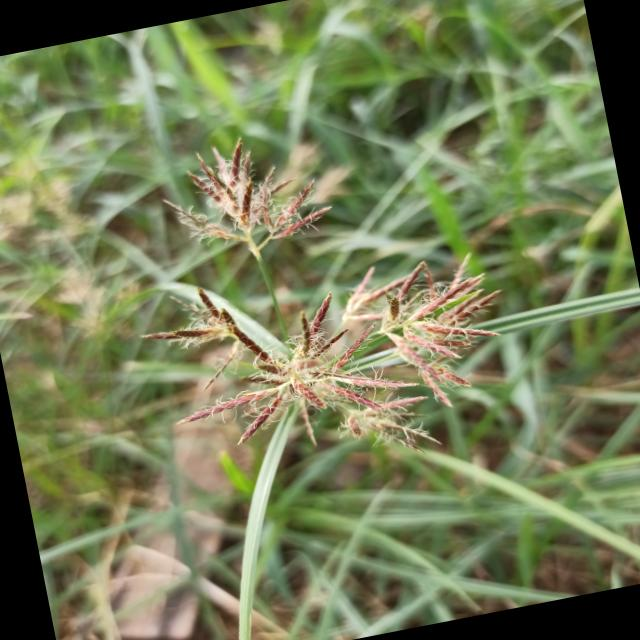cyperus: (129, 225, 532, 503), (149, 120, 340, 276)
